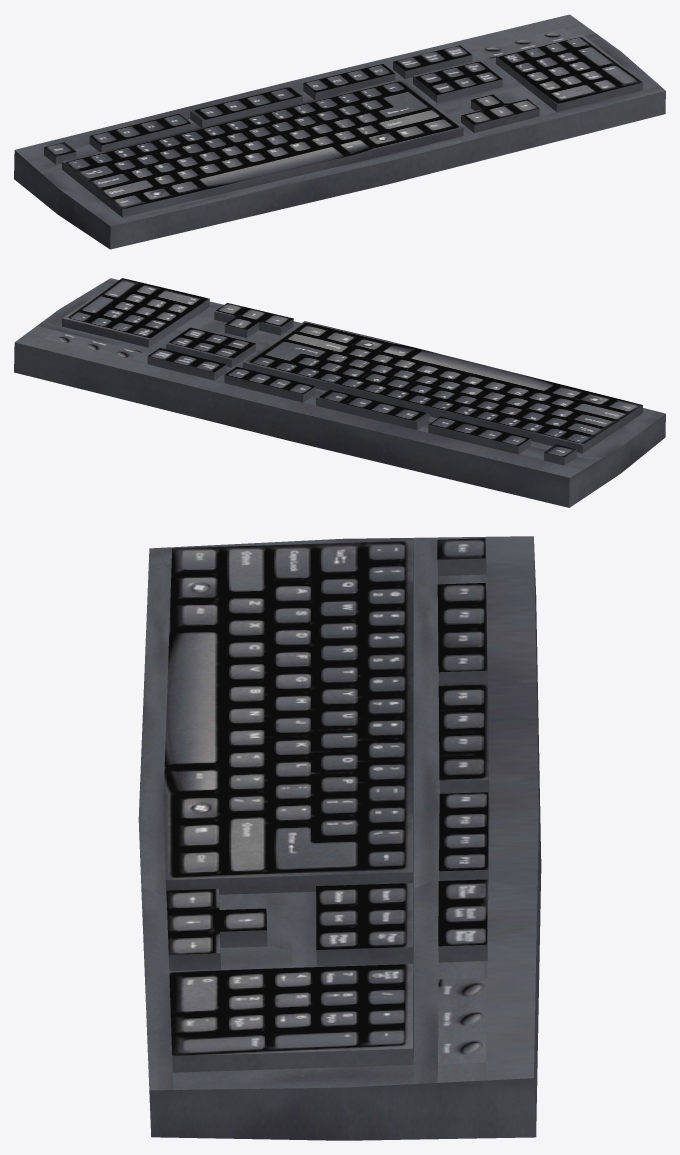
Rendered from keyboard 1.fbx.
The picture shows the model from 3 angles, top to bottom: view 1: azimuth 30°, elevation 25°; view 2: azimuth 150°, elevation 25°; view 3: azimuth 270°, elevation 25°; orthographic projection. The views are drawn at different scales.
Visible parts, largest first — view 1: Keyboard; view 2: Keyboard; view 3: Keyboard.
Part boxes in pixels (box(x1,y1,x2,y2)): Keyboard: box(14, 14, 665, 249); Keyboard: box(14, 278, 665, 507); Keyboard: box(138, 536, 541, 1140).
Size of the model in its own units: 2.53 by 0.1597 by 0.7849.
